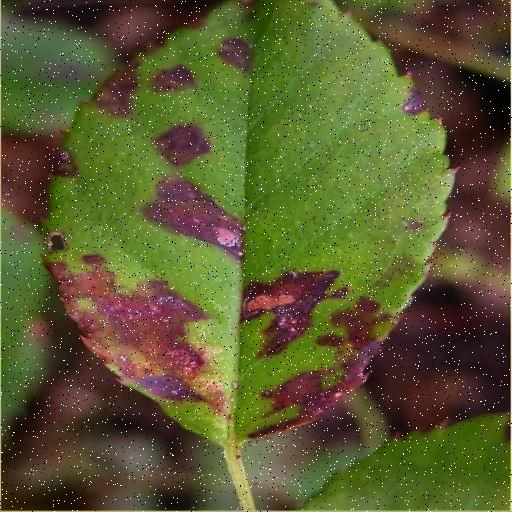downy_mildew: (46, 0, 453, 444)
healthy_leaf: (304, 415, 510, 510), (2, 14, 116, 133), (2, 211, 47, 436)
